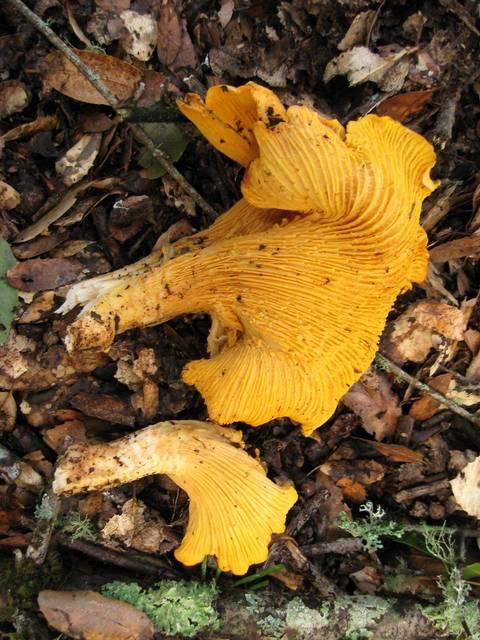Edible Mushroom: (54, 96, 441, 438), (50, 417, 299, 576)
